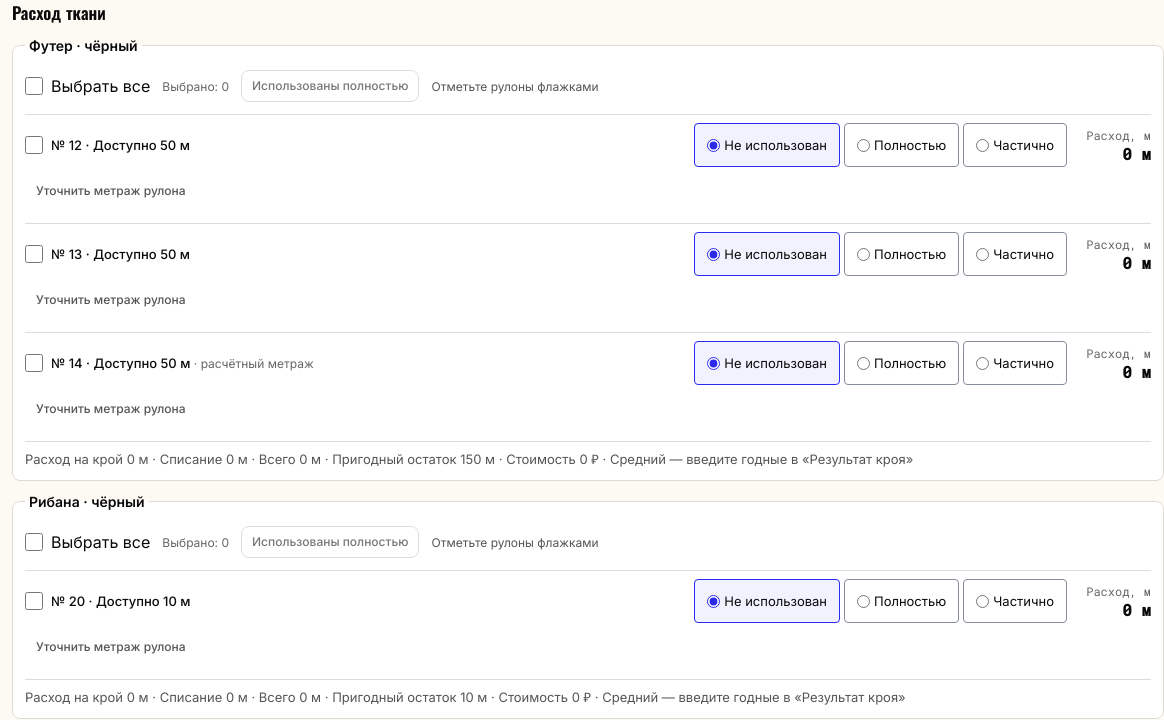
CutUsageSection — режимы рулона › выбор двух + «Использованы полностью» → расход = доступному, без выбора пригодности, status объявляет итог, фокус на кнопке
Click the checkbox named "Выбрать рулон №12" at (34, 145), box [25,136,43,154]
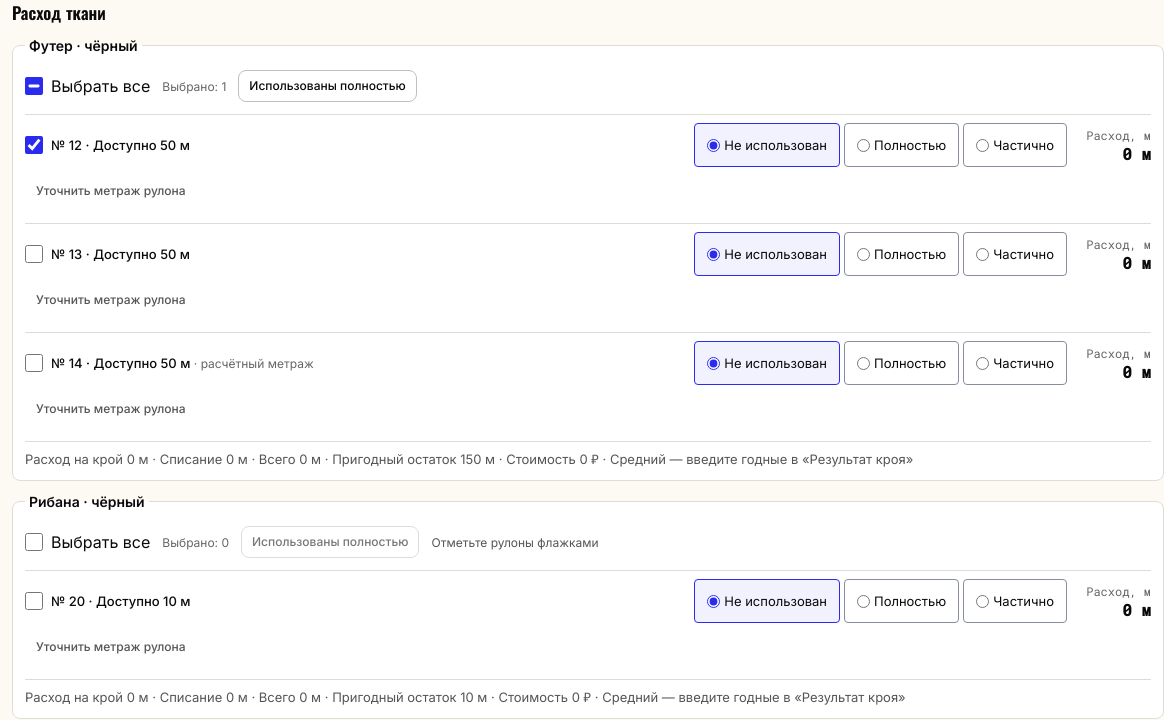
Click the checkbox named "Выбрать рулон №13" at (34, 254), box [25,245,43,263]
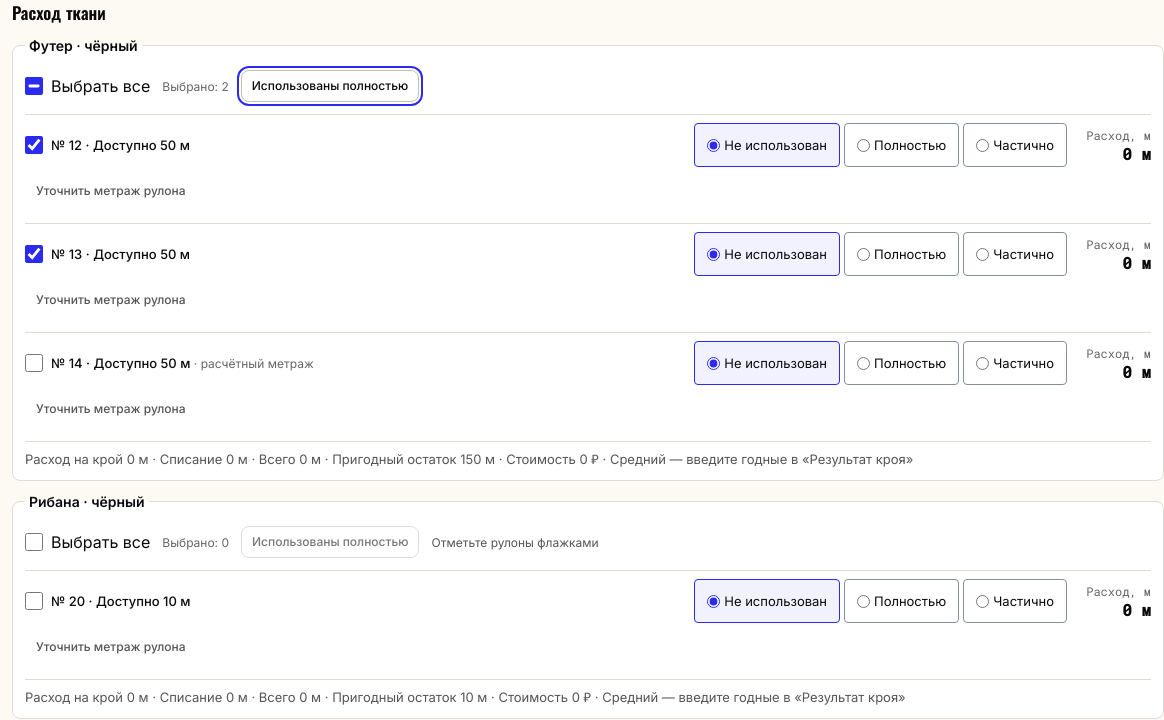
Expected: the text "Выбрано: 2" is shown, [162,78,229,94]
Click the 1st button "Использованы полностью" at (330, 86), box [241,70,419,102]
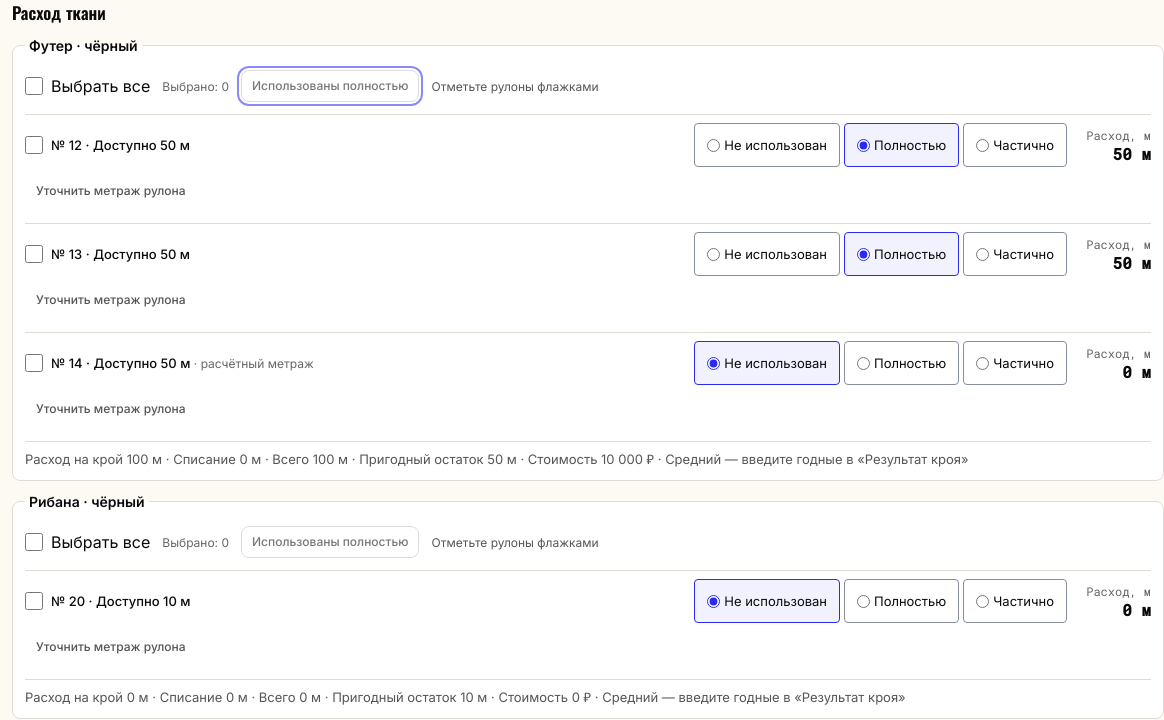
Expected: the checkbox named "Выбрать рулон №12" is not checked, [25,136,43,154]
Expected: the radio button labelled "Полностью" in the row of "12" is checked, [857,138,870,152]
